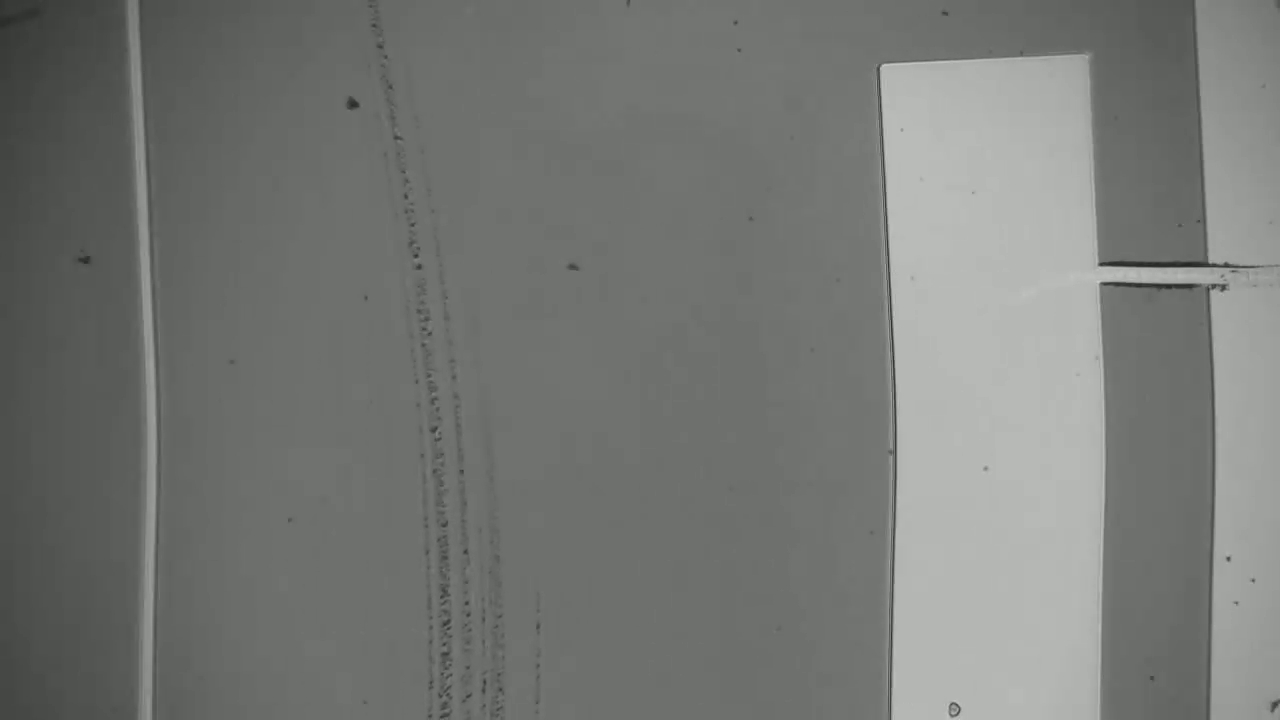Short_circuit: (1080, 230, 1242, 316)
scratch: (372, 12, 565, 708)
